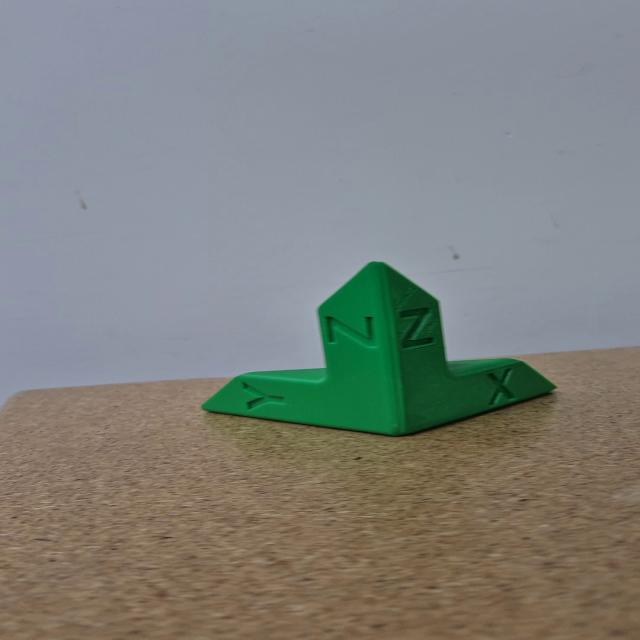objects: (201, 258, 559, 440)
